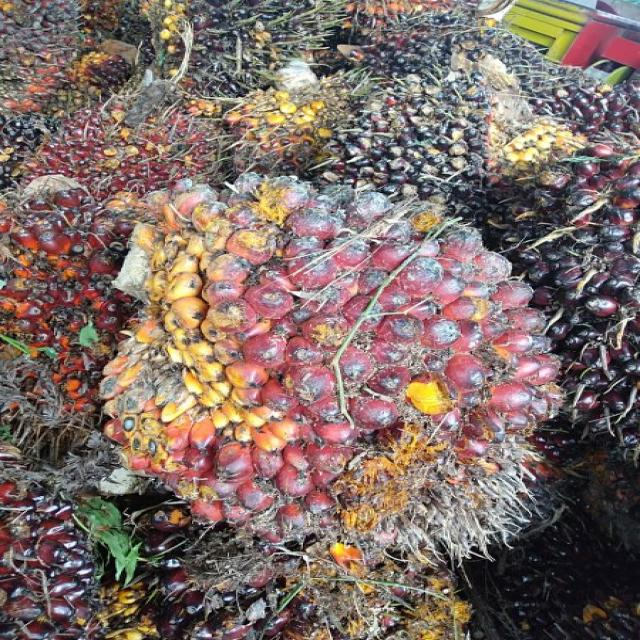fraksi 1: (104, 146, 591, 584)
